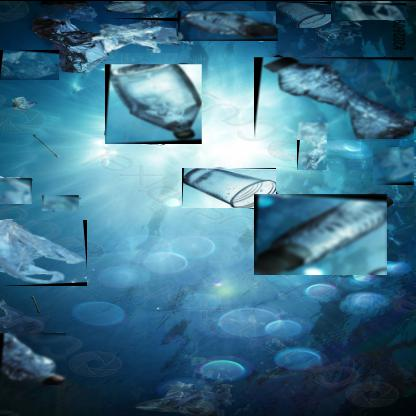bottle: (254, 55, 415, 138), (254, 192, 388, 274), (105, 62, 203, 143), (0, 331, 67, 384), (178, 9, 279, 40), (297, 118, 328, 168)
plastic-bag: (0, 218, 88, 285), (373, 145, 415, 184), (335, 1, 408, 19)
waste: (182, 166, 277, 207), (93, 16, 181, 52), (0, 48, 60, 79), (276, 0, 332, 27), (0, 176, 33, 203), (42, 193, 80, 210), (106, 1, 152, 11)
